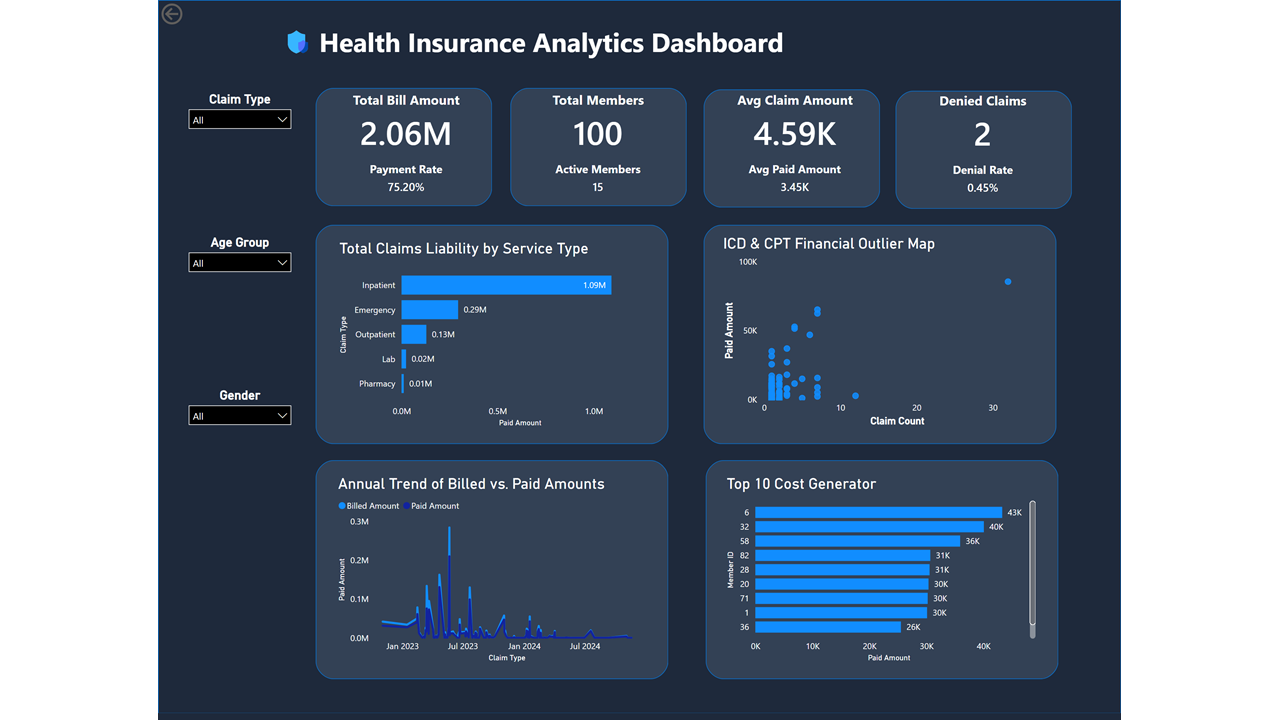

The page's visual inventory and layout, read from the dashboard file:
{"tool":"powerbi","page":{"name":"Page 1","canvas":[1380,1021],"ordinal":0},"visuals":[{"type":"shape","box":[226.2,126.3,252.6,169.1],"z":0},{"type":"shape","box":[505.3,126.3,252.6,169.1],"z":1000},{"type":"cardVisual","title":"Total Bill Amount","fields":{"Data":["claims.Total Billed Amount"]},"box":[254.7,130.4,201.7,191.5],"z":2000},{"type":"shape","box":[226.2,321.9,505.3,313.8],"z":3000},{"type":"shape","box":[782.4,128.4,252.6,169.1],"z":4000},{"type":"shape","box":[1057.4,130.4,252.6,169.1],"z":5000},{"type":"textbox","box":[225.6,29.3,708.3,65.4],"z":6000},{"type":"cardVisual","title":"Total Members","fields":{"Data":["members.Total Members"]},"box":[529.7,130.4,201.7,191.5],"z":7000},{"type":"cardVisual","title":"Avg Claim Amount ","fields":{"Data":["claims.Avg Claim Amount"]},"box":[806.8,130.4,211.9,191.5],"z":8000},{"type":"cardVisual","title":"Denied Claims","fields":{"Data":["claims.Denied Claims"]},"box":[1075.9,130.8,212,191.7],"z":9000},{"type":"shape","box":[782.4,321.9,505.3,313.8],"z":10000},{"type":"shape","box":[225.6,658.6,505.2,313.5],"z":11000},{"type":"shape","box":[784.9,658.6,505.2,313.5],"z":12000},{"type":"clusteredBarChart","title":"Total Claims Liability by Service Type","fields":{"Y":["claims.Total Paid Amount"],"Category":["claims.claim_type"]},"box":[254.9,342.8,453.4,272.9],"z":13000},{"type":"clusteredBarChart","title":"Top 10 Cost Generator","fields":{"Category":["member spend rank.member_id"],"Y":["Sum(member spend rank.total_paid)"]},"box":[810,680,452.5,272.5],"z":14000},{"type":"lineChart","title":"Total Claims Liability by Service Type","fields":{"Category":["claims.claim_date.Variation.Date Hierarchy.Year","claims.claim_date.Variation.Date Hierarchy.Quarter","claims.claim_date.Variation.Date Hierarchy.Month","claims.claim_date.Variation.Date Hierarchy.Day"],"Y":["Sum(claims.billed_amount)","Sum(claims.paid_amount)"]},"box":[252.5,680,452.5,272.5],"z":15000},{"type":"actionButton","box":[0,0,100,40],"z":16000},{"type":"scatterChart","title":"ICD & CPT Financial Outlier Map","fields":{"X":["claims.Claim Count"],"Y":["Sum(claims.paid_amount)"],"Category":["claims.ICD-CPT Pair"]},"box":[805.2,336.1,457.9,279.7],"z":17001},{"type":"slicer","title":"Claim Type","fields":{"Values":["claims.claim_type"]},"box":[33.8,130.8,166.9,81.2],"z":17002},{"type":"slicer","title":"Age Group","fields":{"Values":["members.Age Range"]},"box":[33.8,336.1,166.9,81.2],"z":17003},{"type":"slicer","title":"Gender","fields":{"Values":["members.Gender"]},"box":[33.8,554.9,166.9,81.2],"z":17004},{"type":"image","box":[117.3,0,166.9,126.3],"z":17006}]}

Visuals, with their boxes on the page's 1380x1021 design canvas (x1, y1, x2, y2). These are canvas units, not pixel positions in the 1280x720 screenshot, which may show the page scaled, cropped or inside an application window:
shape: region(226, 126, 479, 295)
shape: region(505, 126, 758, 295)
"Total Bill Amount" cardVisual: region(255, 130, 456, 322)
shape: region(226, 322, 732, 636)
shape: region(782, 128, 1035, 298)
shape: region(1057, 130, 1310, 300)
textbox: region(226, 29, 934, 95)
"Total Members" cardVisual: region(530, 130, 731, 322)
"Avg Claim Amount " cardVisual: region(807, 130, 1019, 322)
"Denied Claims" cardVisual: region(1076, 131, 1288, 322)
shape: region(782, 322, 1288, 636)
shape: region(226, 659, 731, 972)
shape: region(785, 659, 1290, 972)
"Total Claims Liability by Service Type" clusteredBarChart: region(255, 343, 708, 616)
"Top 10 Cost Generator" clusteredBarChart: region(810, 680, 1262, 952)
"Total Claims Liability by Service Type" lineChart: region(252, 680, 705, 952)
actionButton: region(0, 0, 100, 40)
"ICD & CPT Financial Outlier Map" scatterChart: region(805, 336, 1263, 616)
"Claim Type" slicer: region(34, 131, 201, 212)
"Age Group" slicer: region(34, 336, 201, 417)
"Gender" slicer: region(34, 555, 201, 636)
image: region(117, 0, 284, 126)
